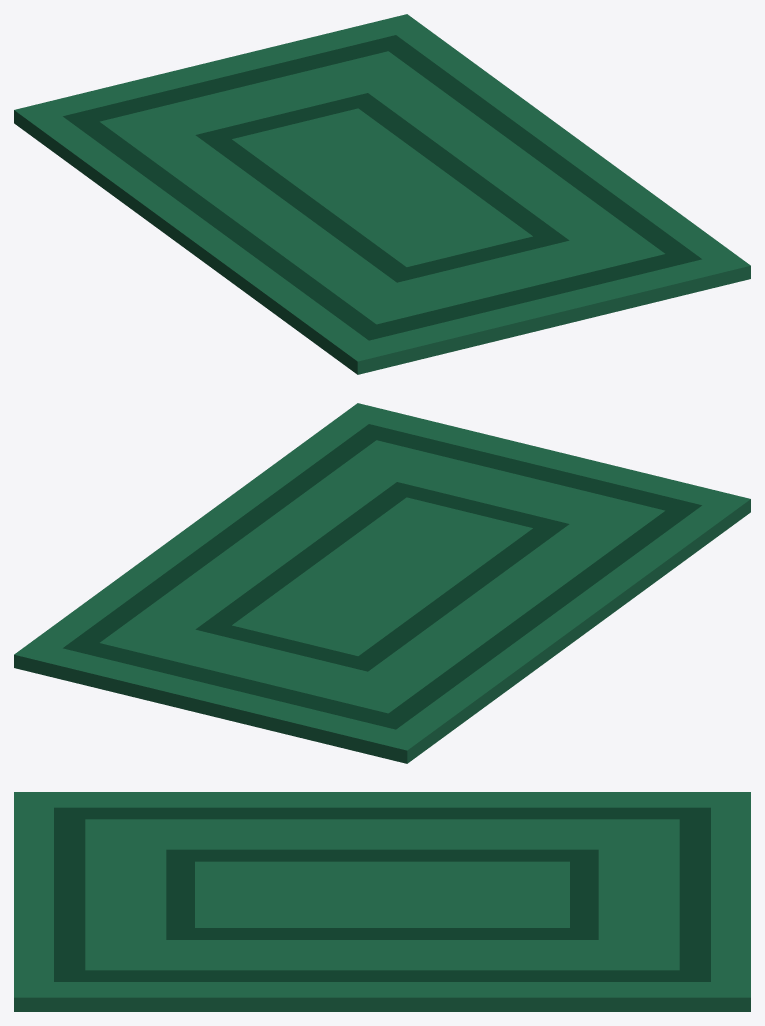
Rendered from Doormat.fbx.
3 renders of one model, top to bottom at view 1: azimuth 30°, elevation 25°; view 2: azimuth 150°, elevation 25°; view 3: azimuth 270°, elevation 25°, orthographic. The views are drawn at different scales.
Parts seen in each view (by area): view 1: pCube1; view 2: pCube1; view 3: pCube1.
Boxes of the visible parts, x1,y1,x2,y2 form: pCube1: (14, 14, 750, 374); pCube1: (14, 403, 750, 763); pCube1: (14, 792, 750, 1011).
Size of the model in its own units: 2.54 by 0.0824 by 3.85.
